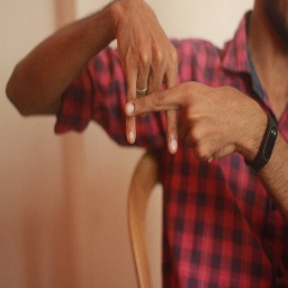H: (97, 43, 209, 160)
